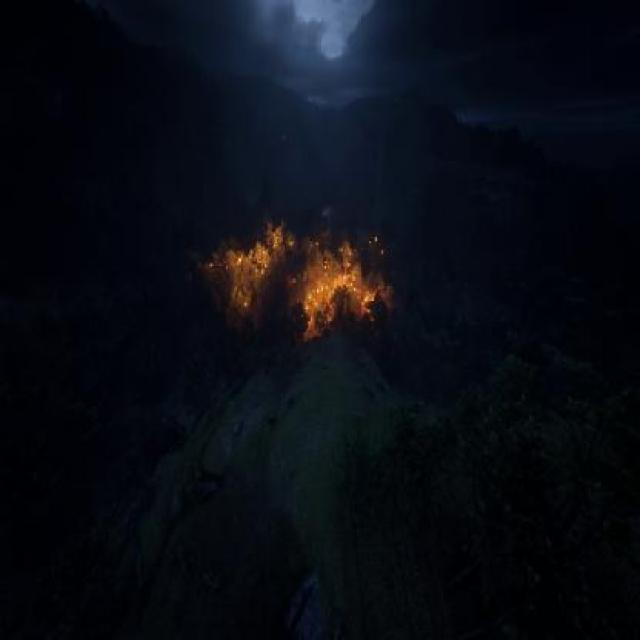Fire: (187, 198, 403, 354)
